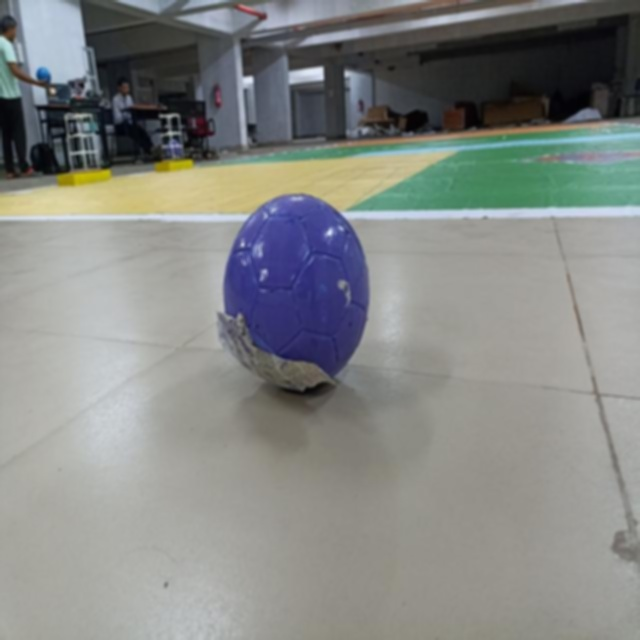blue_ball: (37, 65, 51, 87)
purple_ball: (219, 170, 387, 406), (166, 136, 185, 162)
silo: (65, 106, 100, 172), (160, 107, 186, 164)
